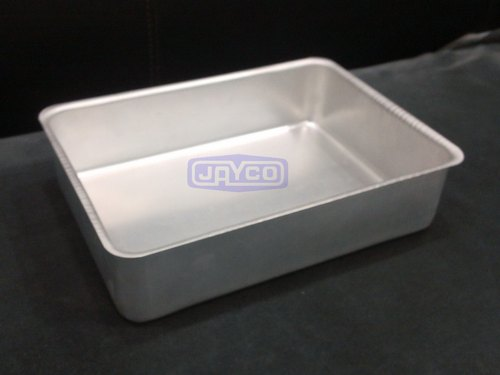metal: (33, 55, 467, 323)
